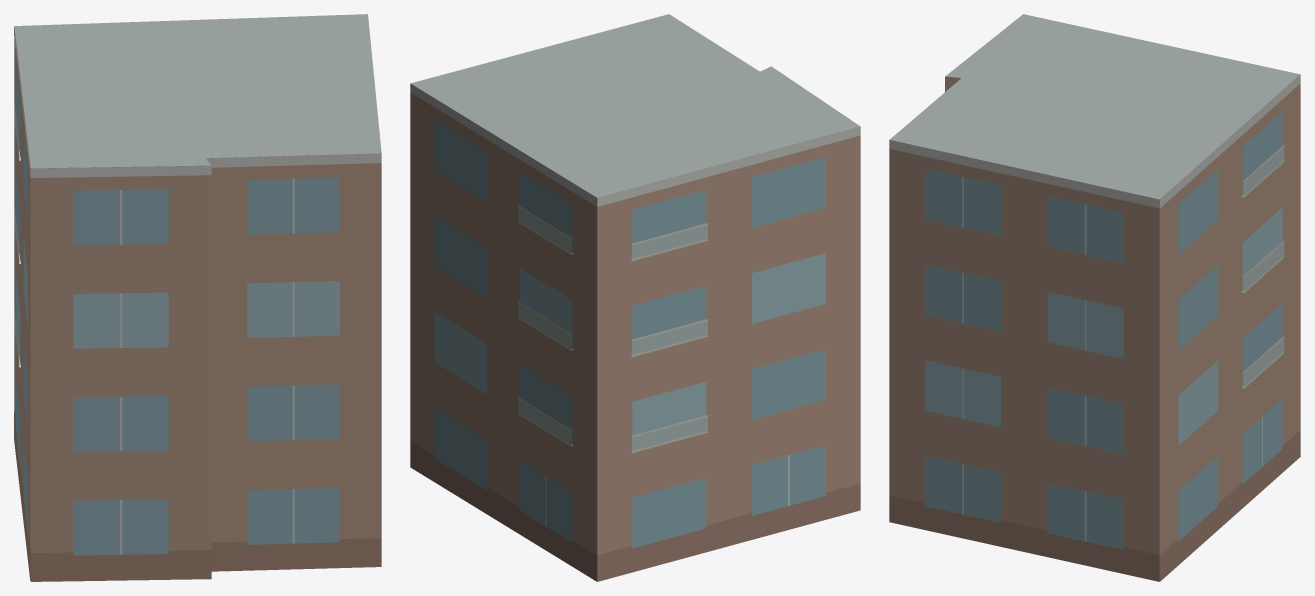
File: survey-upis-32723717.glb
3 renders of one model, left to right at view 1: azimuth 30°, elevation 25°; view 2: azimuth 150°, elevation 25°; view 3: azimuth 270°, elevation 25°, orthographic. The views are drawn at different scales.
Parts seen in each view (by area): view 1: survey-upis-32723717.tmp; view 2: survey-upis-32723717.tmp; view 3: survey-upis-32723717.tmp.
Boxes of the visible parts, left/top/right/bottom form: survey-upis-32723717.tmp: left=14, top=14, right=381, bottom=581; survey-upis-32723717.tmp: left=410, top=14, right=860, bottom=581; survey-upis-32723717.tmp: left=889, top=14, right=1300, bottom=581.
Size of the model in its own units: 10.83 by 10.4 by 10.15.
